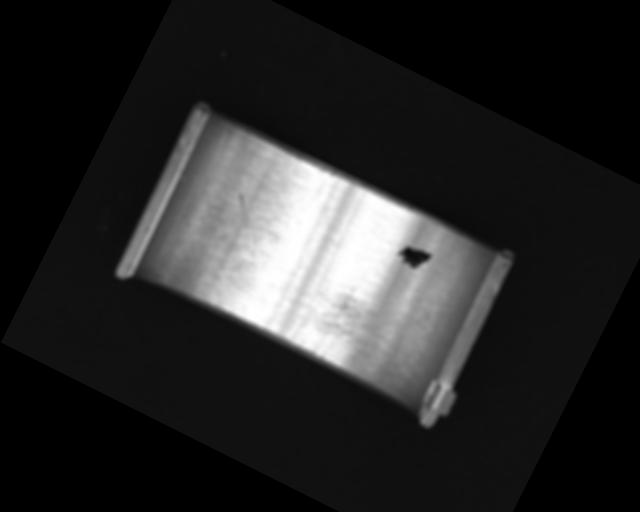blot: (393, 238, 433, 274)
nick: (215, 191, 274, 256)
scratch: (287, 272, 420, 394)
